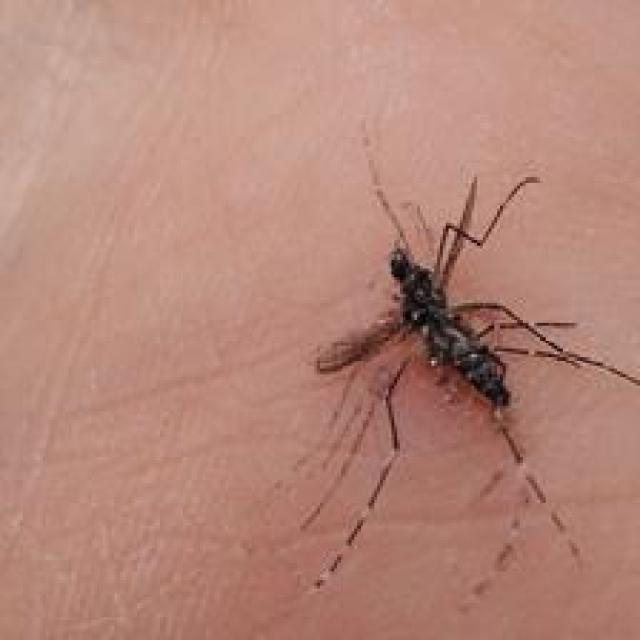Aedes albopictus: (294, 120, 640, 594)
